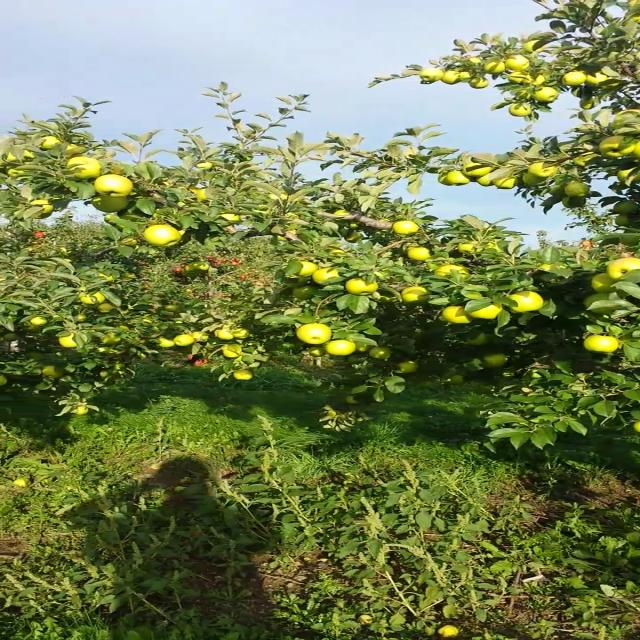apple: (605, 255, 639, 281), (536, 262, 572, 284), (65, 157, 99, 179), (296, 322, 330, 344), (145, 225, 182, 245), (97, 175, 131, 196), (599, 136, 631, 158), (612, 108, 639, 134), (312, 266, 350, 284), (508, 290, 542, 310), (401, 286, 432, 306), (92, 195, 126, 212), (583, 335, 619, 351), (589, 272, 617, 292), (471, 302, 502, 318), (442, 306, 473, 322), (346, 279, 376, 295), (435, 265, 471, 277), (462, 162, 492, 176), (325, 340, 353, 355), (505, 55, 529, 71), (571, 153, 598, 167), (391, 221, 418, 235), (530, 162, 556, 176), (418, 68, 442, 83), (614, 200, 638, 215), (483, 58, 505, 74), (586, 294, 608, 310), (562, 71, 585, 85), (29, 199, 52, 213), (534, 87, 556, 101), (446, 171, 468, 185), (495, 174, 517, 188), (566, 182, 588, 196), (407, 247, 429, 261), (79, 292, 104, 304), (292, 286, 313, 300), (586, 73, 610, 85), (617, 166, 635, 182), (394, 361, 418, 373), (524, 172, 546, 185), (508, 71, 528, 85), (298, 262, 318, 276), (561, 196, 584, 208), (275, 229, 297, 241), (486, 354, 508, 366), (441, 71, 459, 85), (58, 333, 76, 347), (369, 348, 390, 360), (509, 104, 531, 115), (459, 242, 481, 253), (436, 171, 452, 185), (232, 370, 254, 380), (469, 76, 487, 88), (187, 186, 205, 198), (173, 334, 194, 344), (44, 367, 63, 378), (71, 404, 88, 416), (578, 99, 598, 109), (40, 136, 60, 146), (1, 332, 21, 342), (524, 39, 538, 53), (97, 270, 113, 282), (221, 348, 240, 358), (192, 331, 209, 342), (524, 74, 542, 84), (20, 149, 38, 159), (477, 174, 492, 186), (346, 234, 364, 244), (192, 261, 210, 271), (103, 333, 121, 343), (156, 336, 174, 346), (33, 379, 51, 389), (217, 329, 234, 339), (2, 151, 18, 161), (614, 216, 630, 226), (457, 72, 472, 82), (98, 304, 116, 312), (231, 329, 249, 337), (308, 348, 324, 357), (353, 342, 368, 351), (196, 162, 212, 170), (347, 395, 359, 405), (364, 292, 378, 300), (167, 304, 181, 312), (30, 317, 44, 325), (221, 213, 239, 219), (8, 169, 25, 175), (332, 210, 350, 215), (182, 264, 193, 272), (633, 138, 638, 155), (74, 314, 84, 322), (469, 58, 479, 65), (65, 144, 75, 150), (634, 421, 639, 431), (0, 377, 6, 385)
